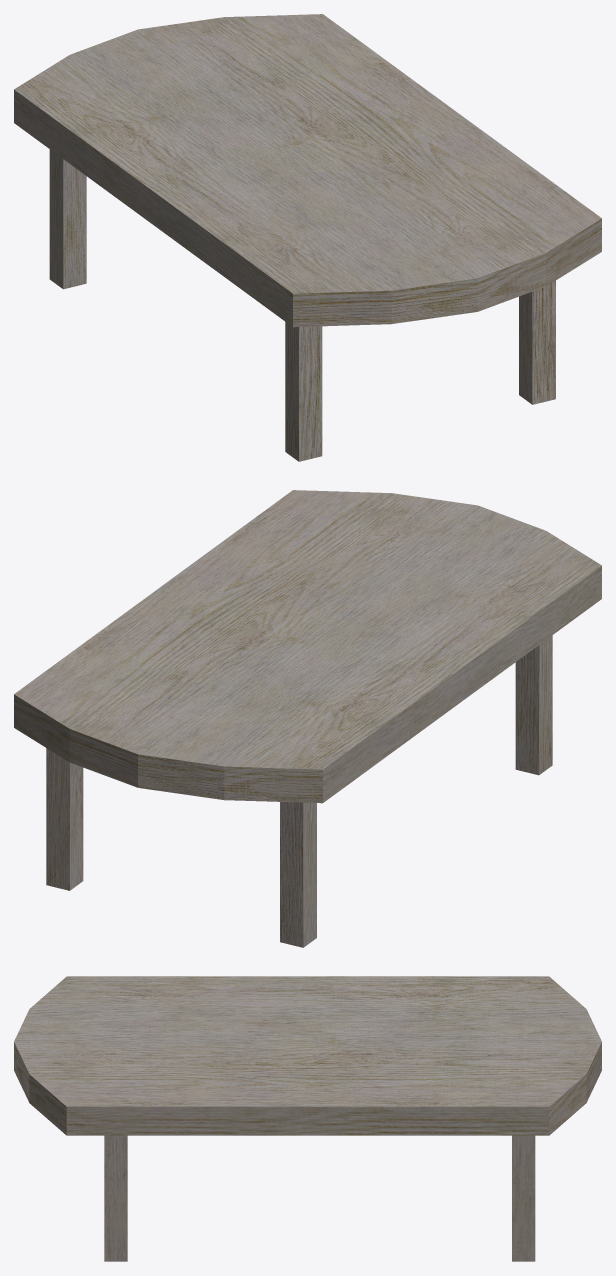
The model's file is Mesa de Reuniones.fbx.
3 renders of one model, top to bottom at view 1: azimuth 30°, elevation 25°; view 2: azimuth 150°, elevation 25°; view 3: azimuth 270°, elevation 25°, orthographic. The views are drawn at different scales.
Visible parts, largest first — view 1: MesaReuniones; view 2: MesaReuniones; view 3: MesaReuniones.
Part boxes in pixels (bbox=[...]): MesaReuniones: bbox=[14, 14, 601, 461]; MesaReuniones: bbox=[14, 490, 601, 947]; MesaReuniones: bbox=[14, 976, 601, 1261].
Size of the model in its own units: 163 by 95.92 by 310.
